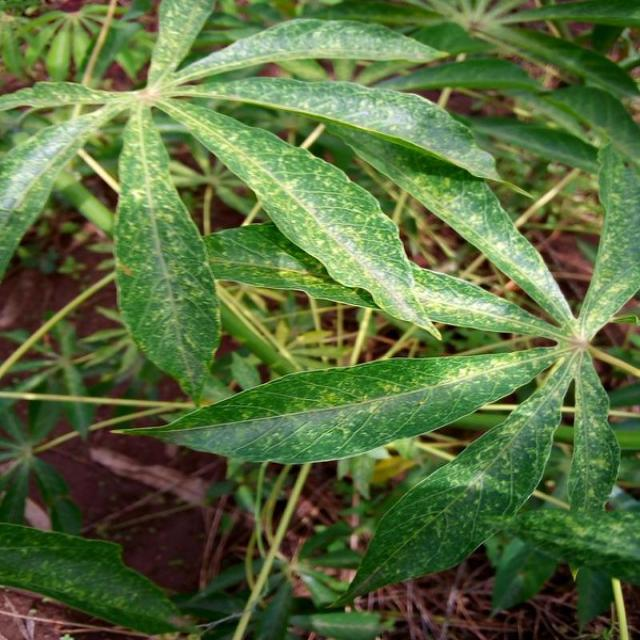cassava leaf: (1, 1, 638, 622), (154, 93, 443, 341), (110, 342, 560, 465), (111, 99, 222, 402)
